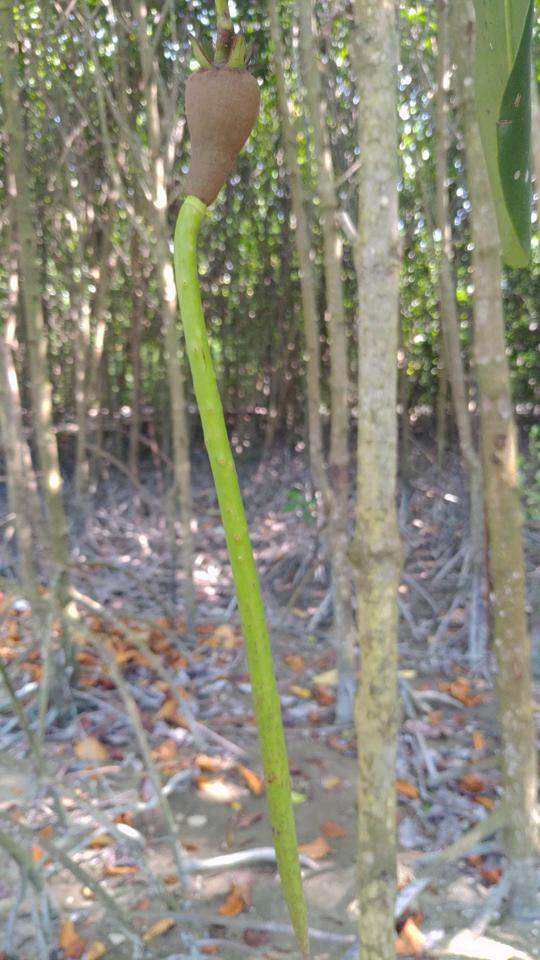setengah matang: (161, 29, 334, 956)
